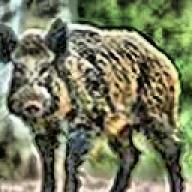boar: (0, 16, 188, 192)
